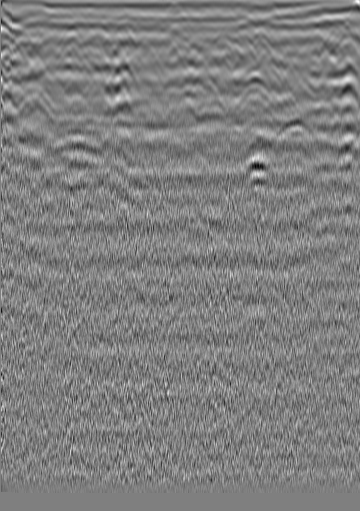가스: (245, 151, 277, 186)
상수: (14, 32, 34, 52)
오수: (310, 34, 330, 54)
우수: (133, 36, 153, 56)
